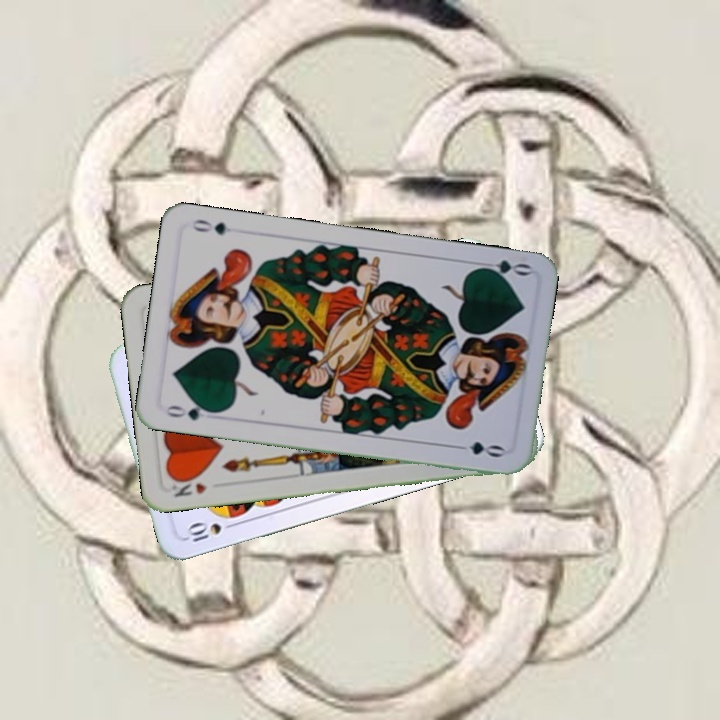GO: (473, 255, 533, 283), (163, 399, 220, 423)
HK: (168, 479, 210, 500)
S10: (182, 518, 240, 545)
